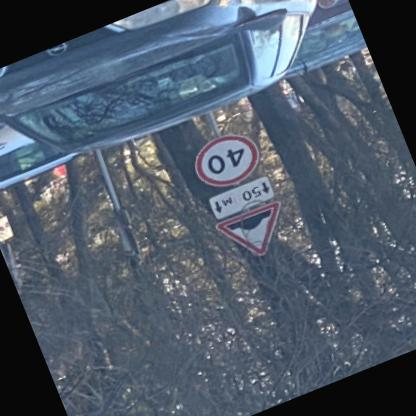speedlimit: (189, 124, 269, 196)
